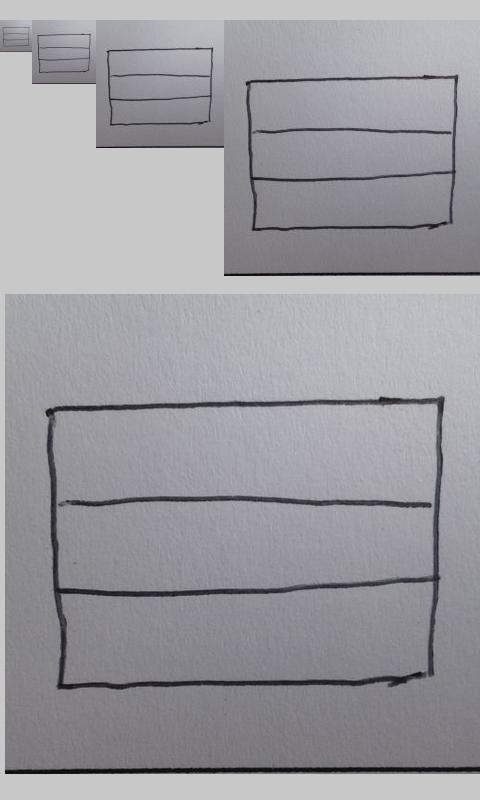list_view: (41, 395, 448, 691), (245, 75, 459, 231), (105, 46, 214, 127), (36, 33, 91, 73), (2, 26, 30, 48)
